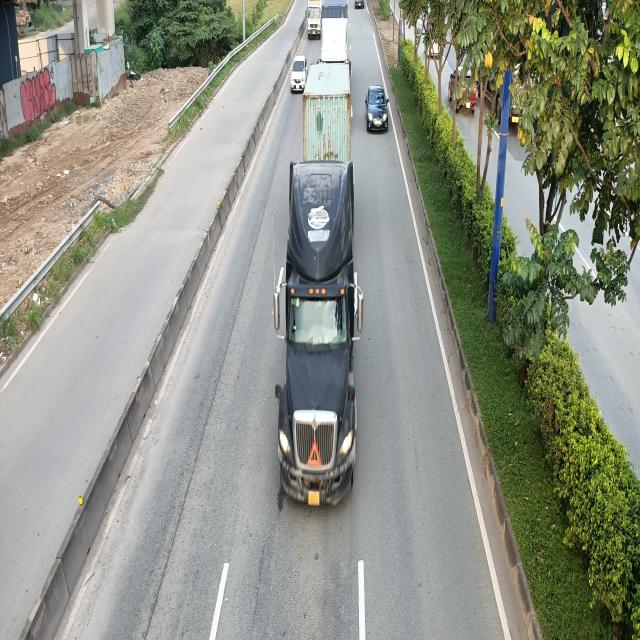car: (366, 85, 392, 133)
container: (270, 61, 360, 506), (321, 0, 352, 62)
truck: (306, 0, 322, 38)
